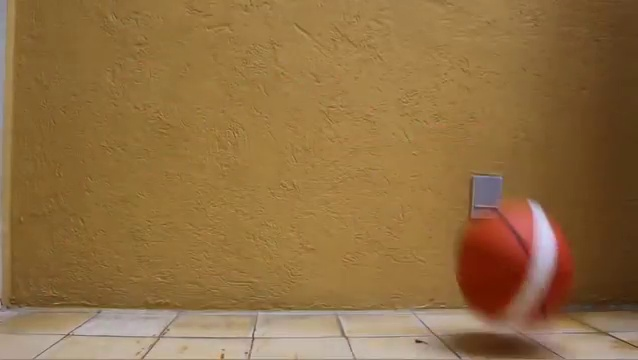ball: (455, 198, 575, 327)
